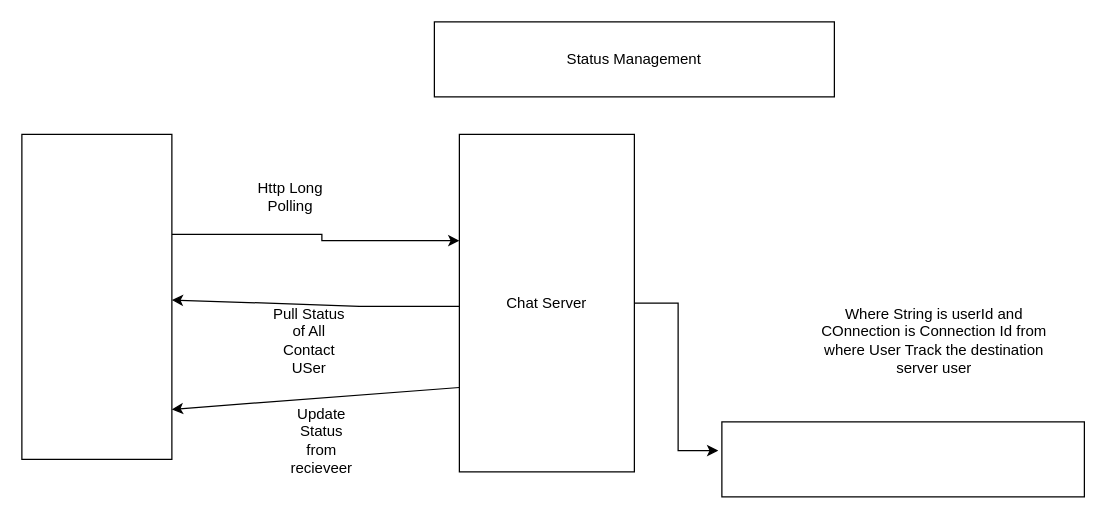
This 1106x519 diagram has some shape labels left out. The box of each missing label's shape, as (x1, y1, x2, y2) in pixels:
HashMap<String,Connection>: (721, 421, 1084, 497)
User: (21, 133, 172, 459)
